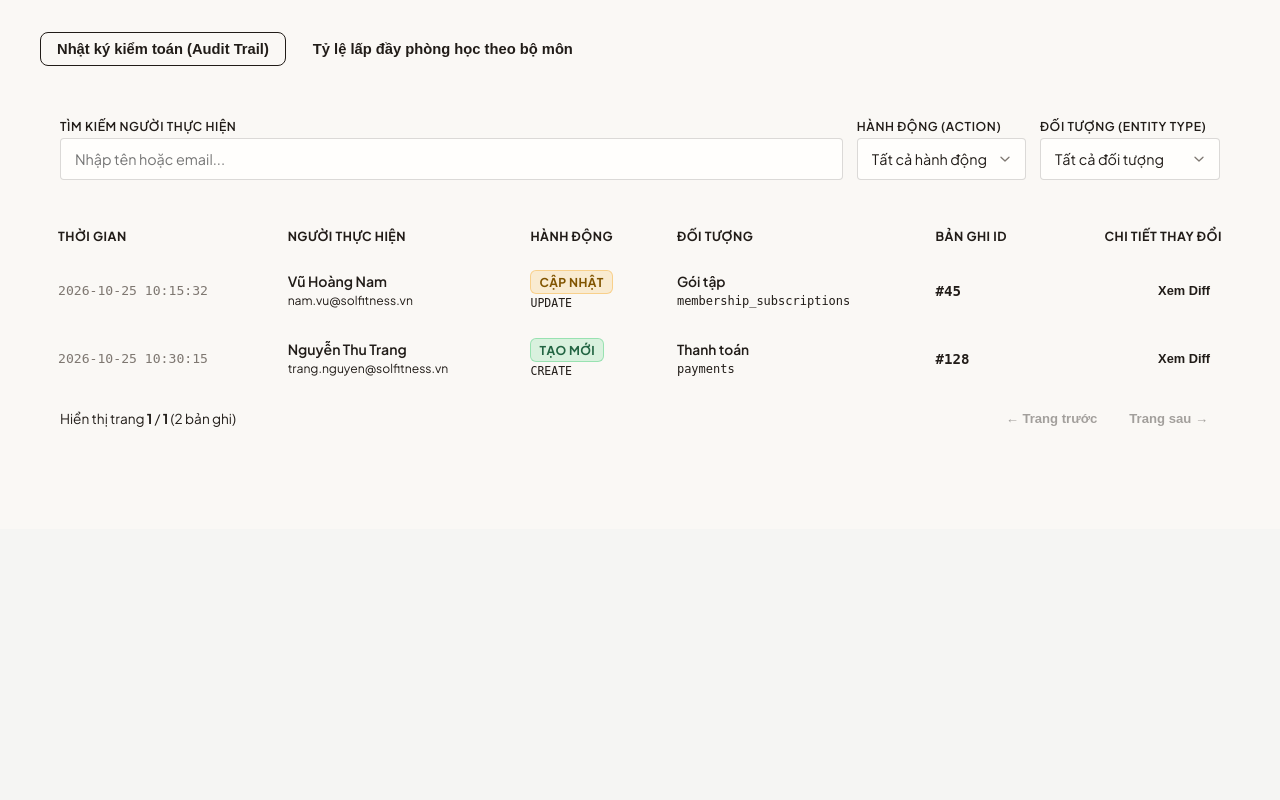
ManagerAuditLogsPage (SCRUM-124: Giám sát Audit Log & Báo cáo Lấp đầy Lớp) › opens diff modal and displays old_value vs new_value comparison (AC 2)
The image size is (1280, 800).
Step 1. Click the button with id "101" → (1184, 290), box [1146, 278, 1222, 302]
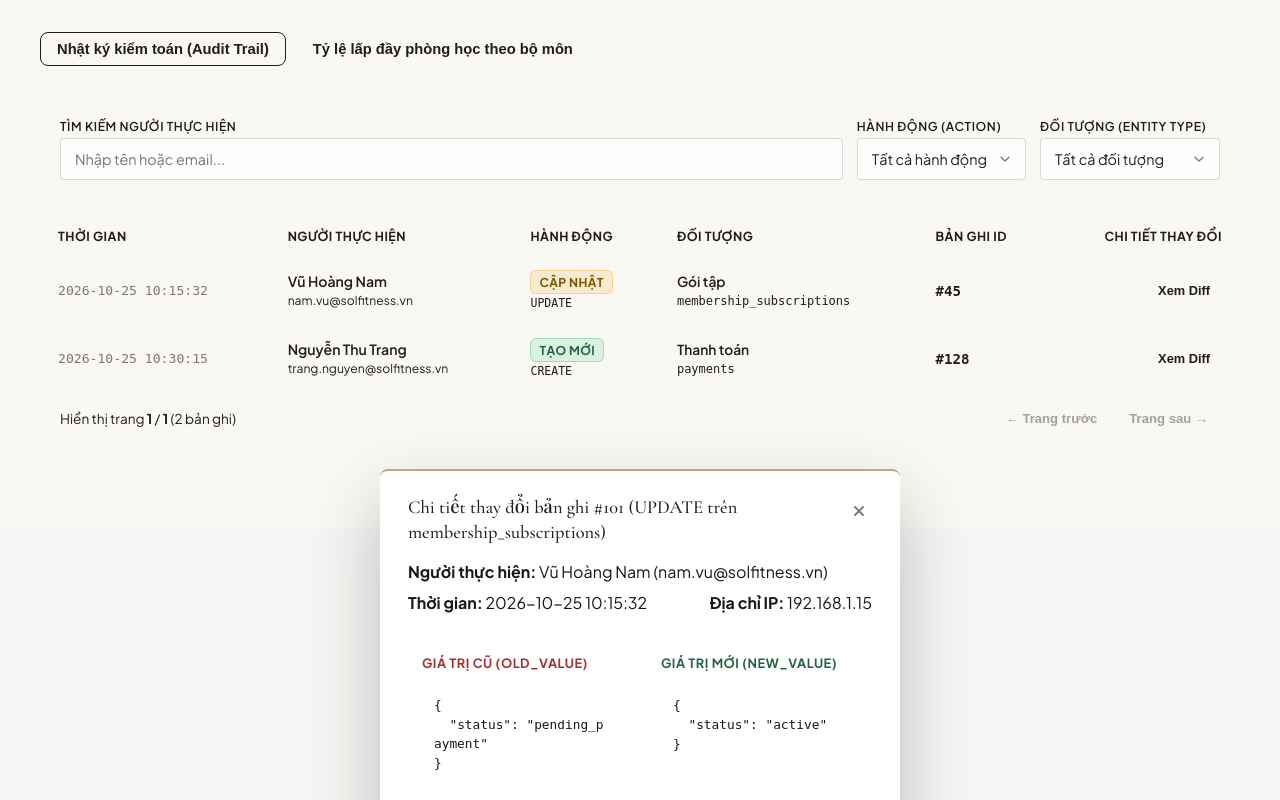
Expected: the text "Chi tiết thay đổi bản ghi #101" is shown, [408, 496, 737, 543]
Expected: the text "Giá trị cũ (old_value)" is shown, [422, 655, 588, 671]
Expected: the text "Giá trị mới (new_value)" is shown, [661, 655, 837, 671]
